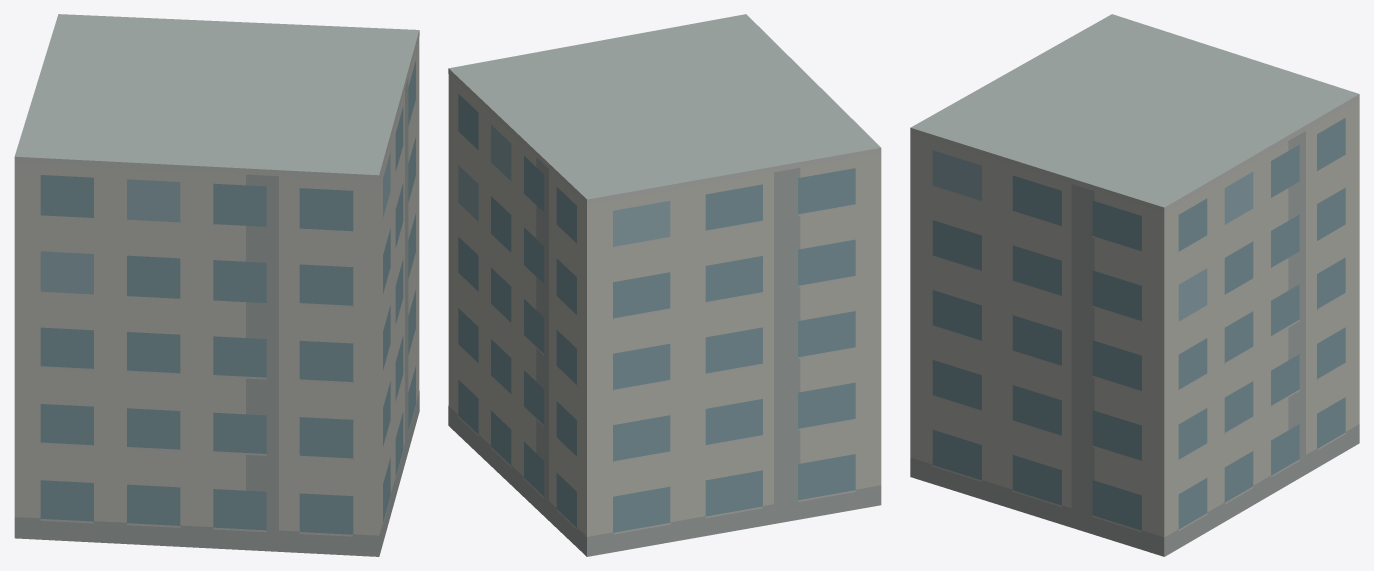
File: survey-upis-32801775.glb
The picture shows the model from 3 angles, left to right: view 1: azimuth 30°, elevation 25°; view 2: azimuth 150°, elevation 25°; view 3: azimuth 270°, elevation 25°; orthographic projection. The views are drawn at different scales.
Parts seen in each view (by area): view 1: survey-upis-32801775.tmp; view 2: survey-upis-32801775.tmp; view 3: survey-upis-32801775.tmp.
Boxes of the visible parts, x1,y1,x2,y2 form: survey-upis-32801775.tmp: [14, 14, 419, 556]; survey-upis-32801775.tmp: [448, 14, 881, 556]; survey-upis-32801775.tmp: [910, 14, 1359, 556].
Size of the model in its own units: 18.14 by 15.25 by 17.78.
